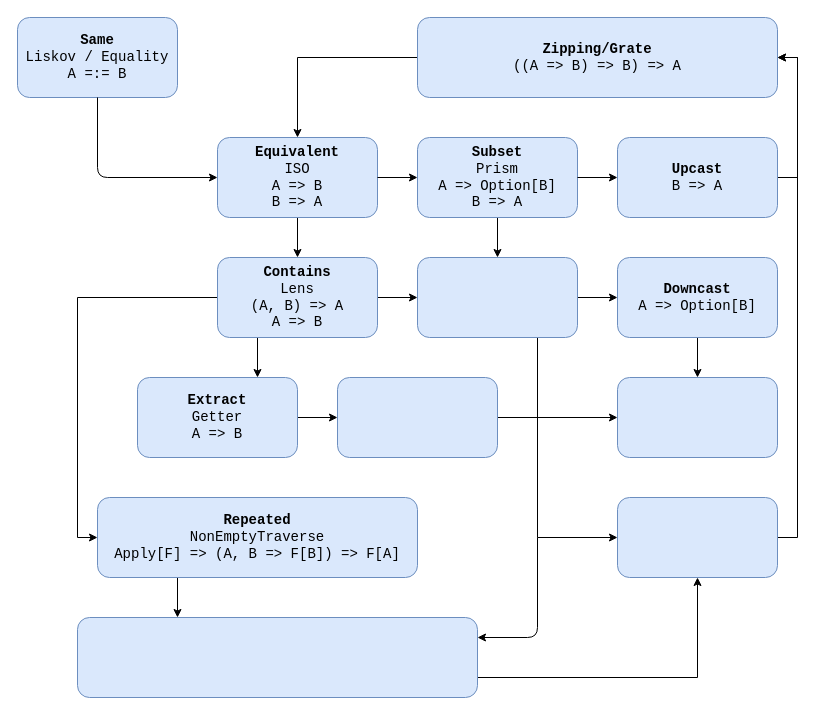
Image size: 823x715. Some labels were removed from this diagram. Here are the shapes that lost their labels. From the top down, the box of each, then its label:
(416, 256, 578, 338): Property Optional A => Option[B] (A, B) => A
(336, 376, 498, 458): Reduced A => NoneEmptyList[B]
(616, 376, 778, 458): Folded Fold A => List[B]
(616, 496, 778, 578): Update (A, B => B) => A
(76, 616, 478, 698): Items Traverse Applicative[F] => (A, B => F[B]) => F[A]
